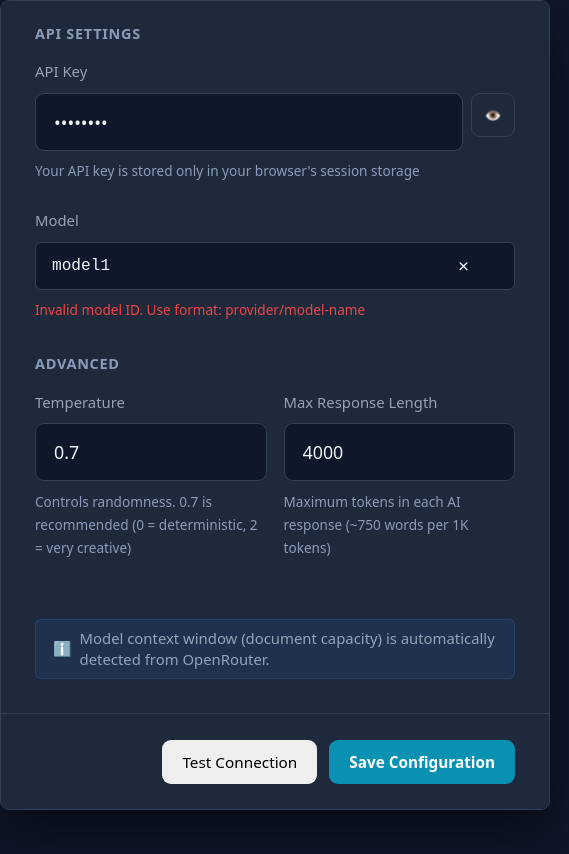
LLMConfigPanel › Save Functionality › should show validation error if config is invalid
The width and height of the screenshot is (569, 854).
(page scrolled)
Step 1. Click the button "Save Configuration" → x=422, y=762, box [329, 740, 515, 784]
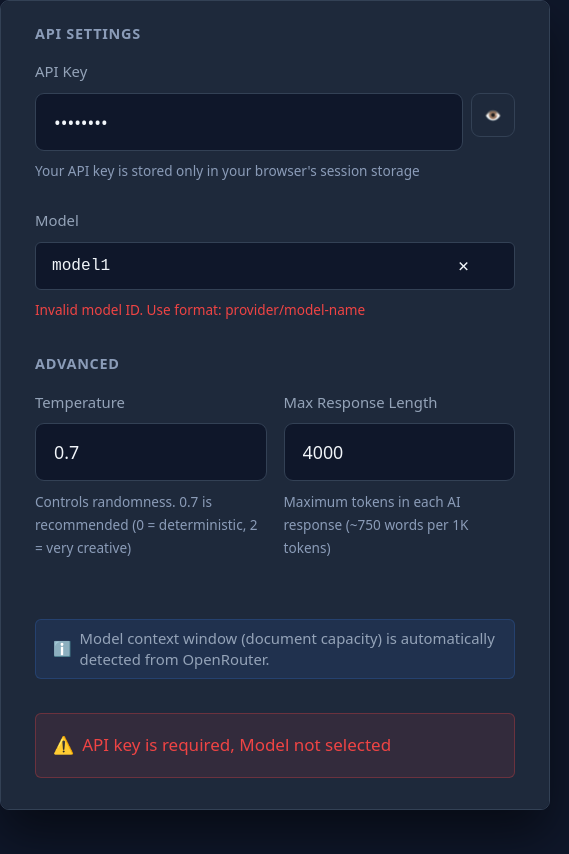
expect the text "⚠️ API key is required, Model not selected" is shown: met, box [35, 713, 515, 778]
